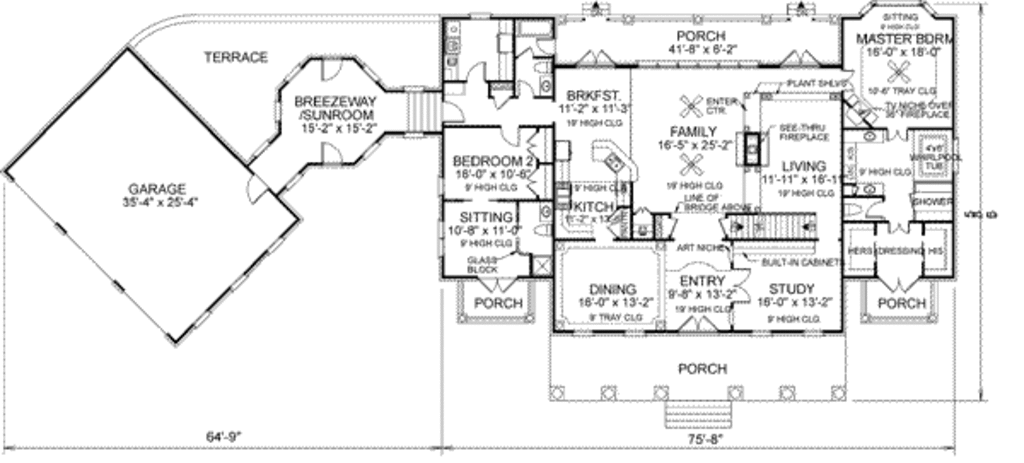door: (676, 312, 718, 338), (775, 50, 821, 72), (877, 275, 922, 295), (244, 176, 272, 208), (575, 50, 615, 70), (318, 140, 344, 168), (865, 196, 891, 223), (440, 99, 465, 127), (884, 214, 915, 236), (501, 120, 522, 150), (316, 57, 343, 80), (884, 127, 910, 145), (463, 61, 484, 81)
kitchen_bar: (590, 137, 640, 182)
stairs: (716, 210, 818, 244), (663, 395, 733, 434)
